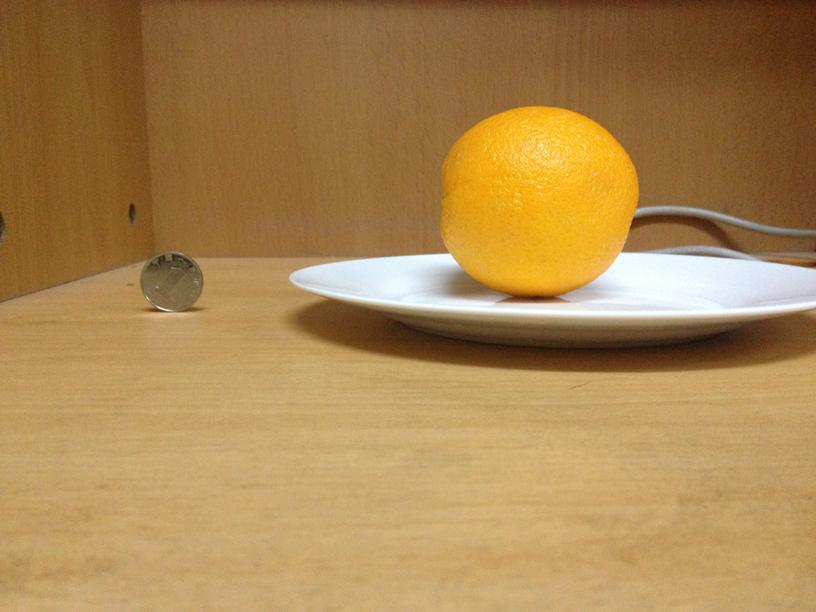coin: (140, 251, 203, 312)
orange: (435, 108, 639, 292)
